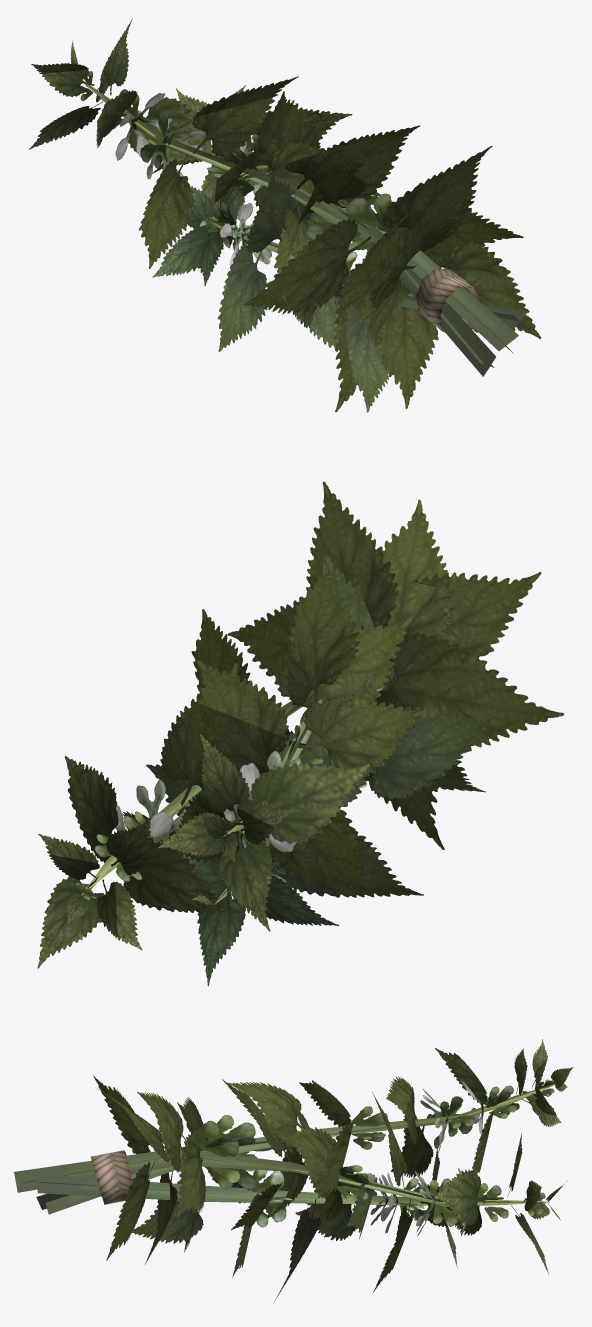
File: village_nettle_03.fbx
The picture shows the model from 3 angles, top to bottom: view 1: azimuth 30°, elevation 25°; view 2: azimuth 150°, elevation 25°; view 3: azimuth 270°, elevation 25°; orthographic projection. The views are drawn at different scales.
Parts seen in each view (by area): view 1: village_nettle_03; view 2: village_nettle_03; view 3: village_nettle_03.
Boxes of the visible parts, bbox=[...] form: village_nettle_03: bbox=[29, 18, 541, 412]; village_nettle_03: bbox=[37, 481, 564, 986]; village_nettle_03: bbox=[14, 1039, 573, 1303].
Bounding box in the file's own units: 41.85 × 41.96 × 82.64.
